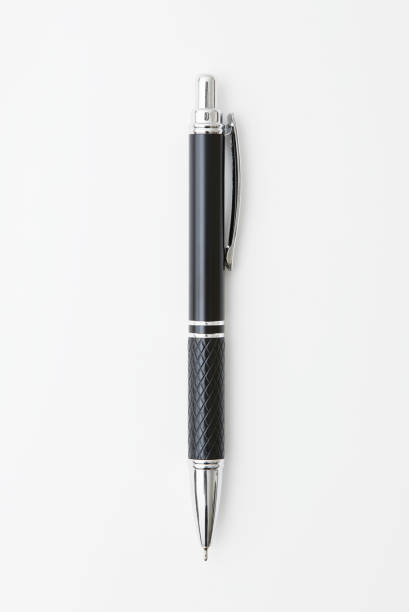pen: (133, 57, 288, 568)
